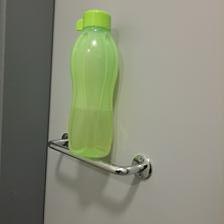bottle: (65, 9, 121, 157)
